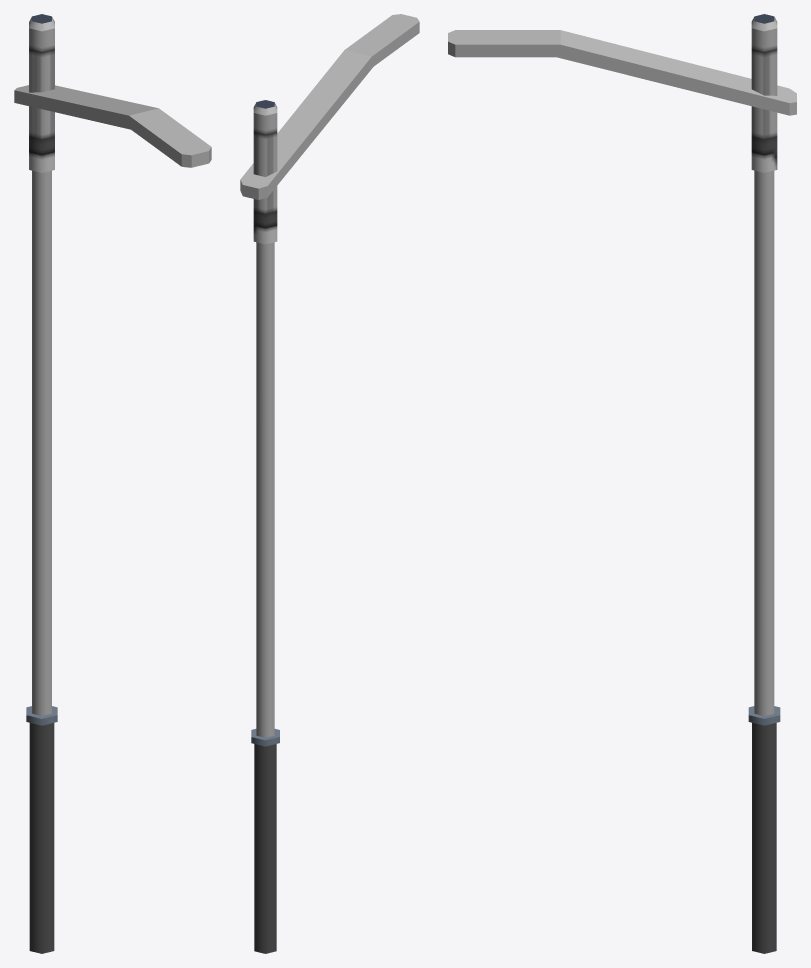
The model's file is LightA.fbx.
3 renders of one model, left to right at view 1: azimuth 30°, elevation 25°; view 2: azimuth 150°, elevation 25°; view 3: azimuth 270°, elevation 25°, orthographic. The views are drawn at different scales.
Parts seen in each view (by area): view 1: LightA; view 2: LightA; view 3: LightA.
Boxes of the visible parts, bbox=[...] form: LightA: bbox=[14, 14, 211, 953]; LightA: bbox=[240, 14, 419, 953]; LightA: bbox=[448, 14, 796, 953].
Size of the model in its own units: 0.1577 by 4.44 by 1.51.
